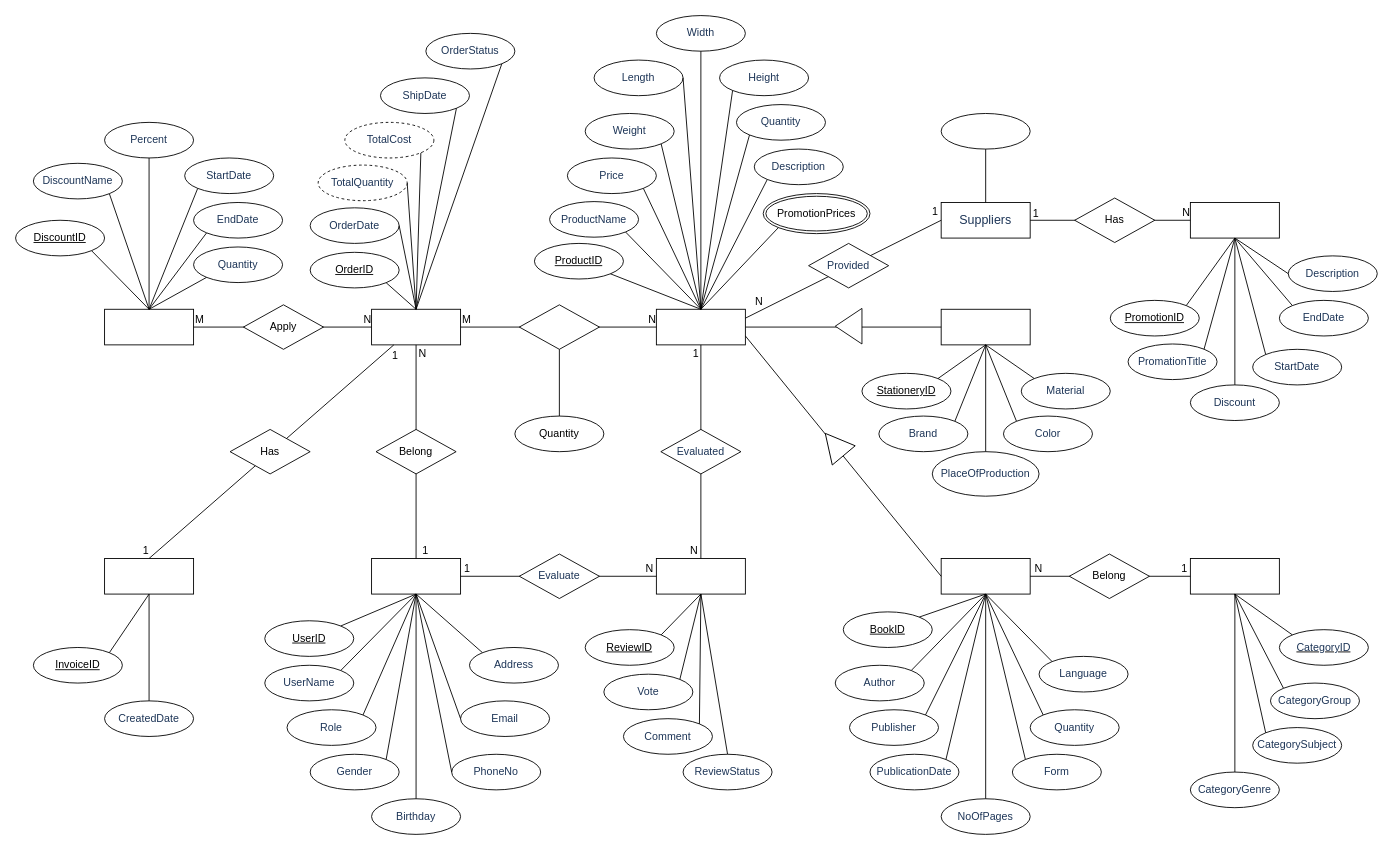
This 1393x850 diagram has some shape labels left out. The box of each missing label's shape, as (x1, y1, x2, y2) in pixels:
Books: (940, 558, 1030, 594)
Categories: (1189, 558, 1279, 594)
Discounts: (104, 308, 194, 345)
Invoices: (104, 558, 194, 594)
Order: (518, 304, 599, 349)
Orders: (371, 308, 461, 345)
Products: (655, 308, 745, 345)
Promotions: (1189, 202, 1279, 238)
Reviews: (655, 558, 745, 594)
Stationeries: (940, 308, 1030, 345)
SupplierName: (940, 113, 1030, 149)
Users: (371, 558, 461, 594)
